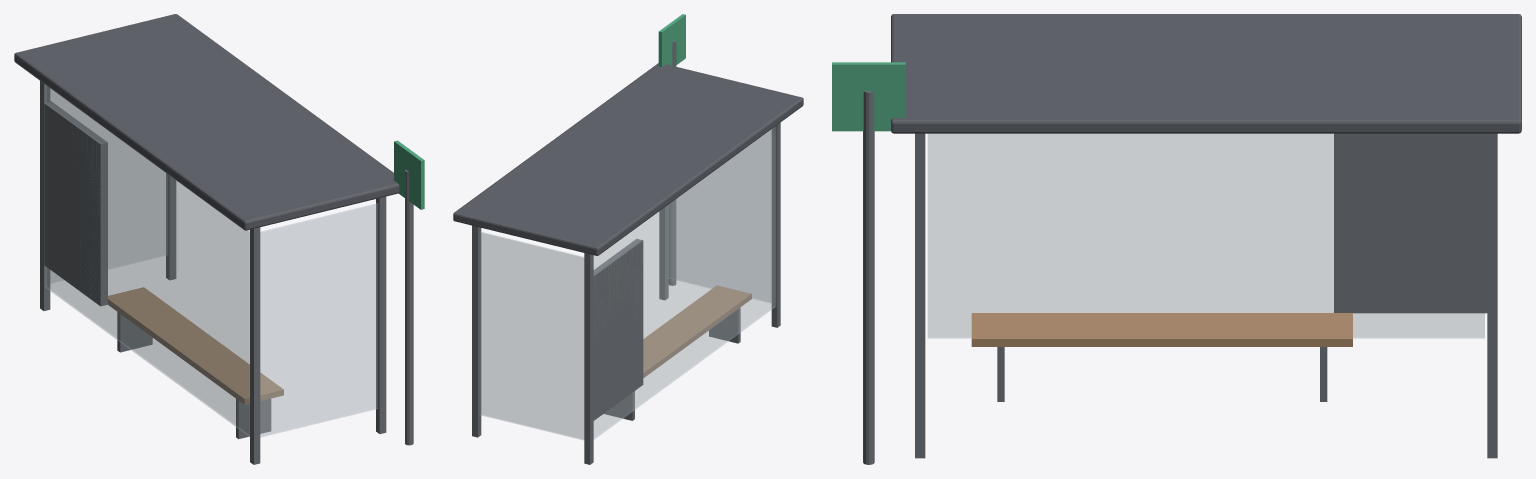
File: busstop.glb
The picture shows the model from 3 angles, left to right: view 1: azimuth 30°, elevation 25°; view 2: azimuth 150°, elevation 25°; view 3: azimuth 270°, elevation 25°; orthographic projection. The views are drawn at different scales.
Visible parts, largest first — view 1: busstop; view 2: busstop; view 3: busstop.
Boxes of the visible parts, left/top/right/bottom form: busstop: left=14, top=14, right=424, bottom=464; busstop: left=453, top=14, right=803, bottom=464; busstop: left=832, top=14, right=1521, bottom=464.
Bounding box in the file's own units: 1.75 × 3 × 4.7.
